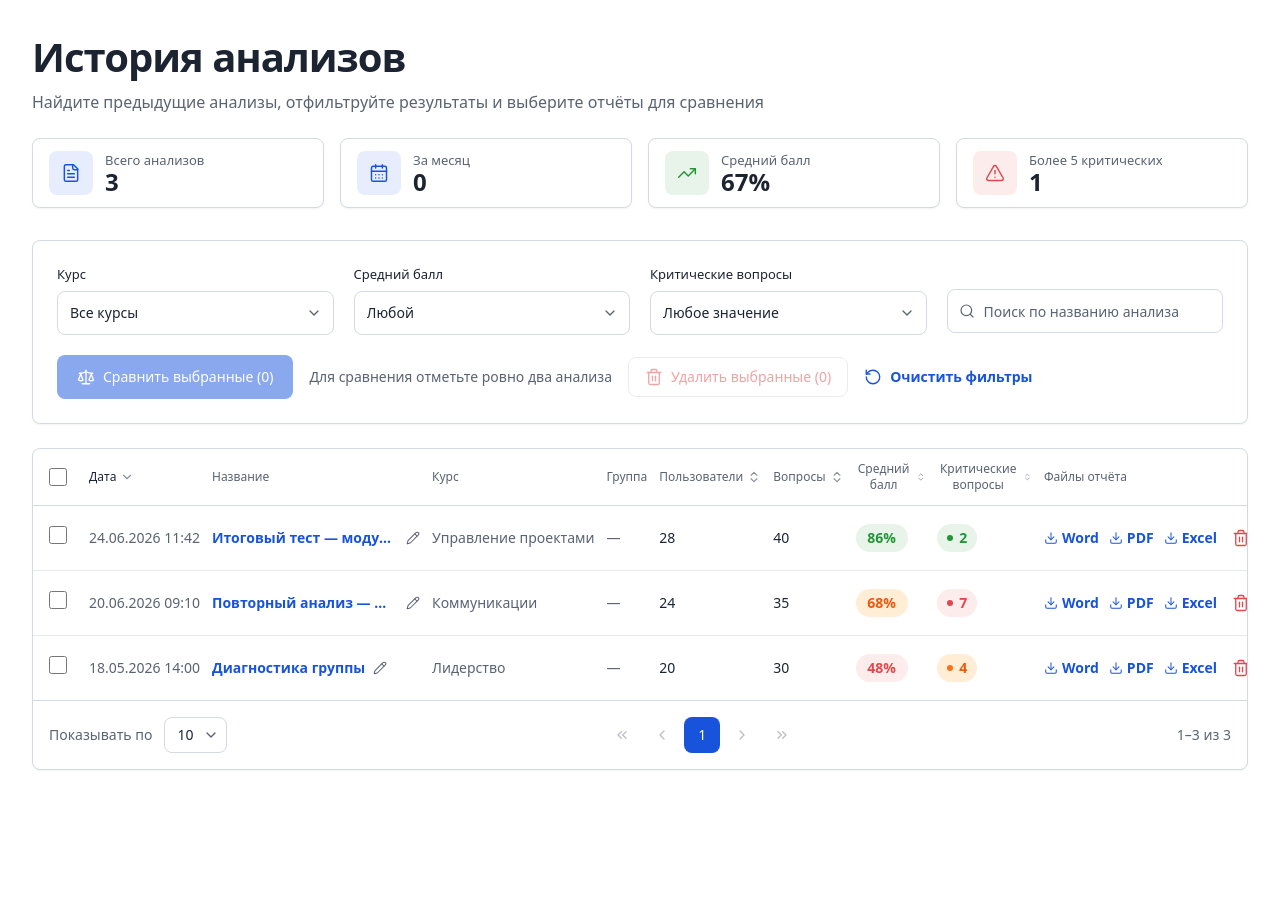
History — actions › shows a Russian message when the report cannot be built
Expected: the link "Итоговый тест — модуль 3" is shown, [212,528,398,548]
Click the button with aria-label "Скачать PDF «".
click(1131, 538)  # box [1109,528,1154,548]
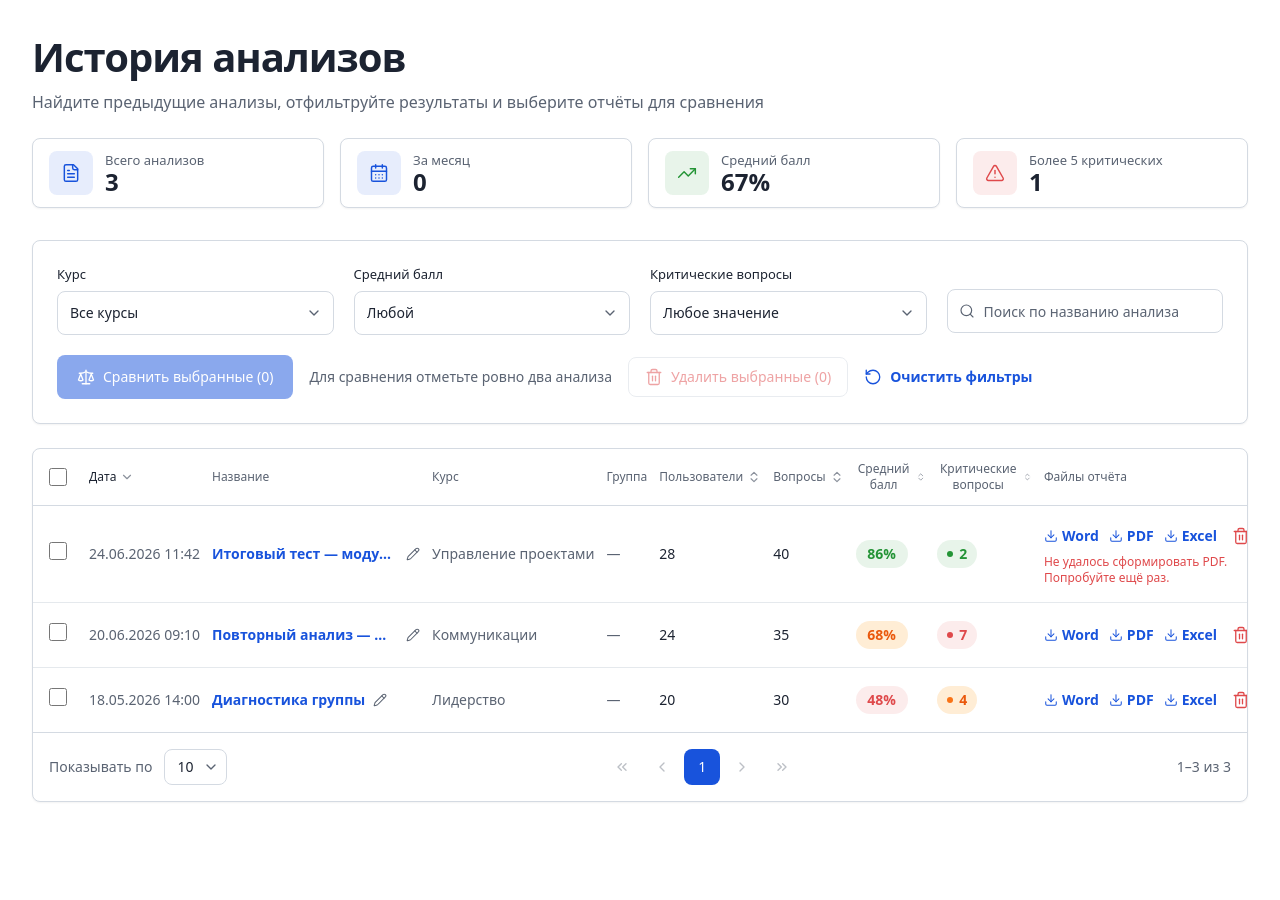
Expected: the message shows "Не удалось сформировать PDF", [1044,552,1227,586]
